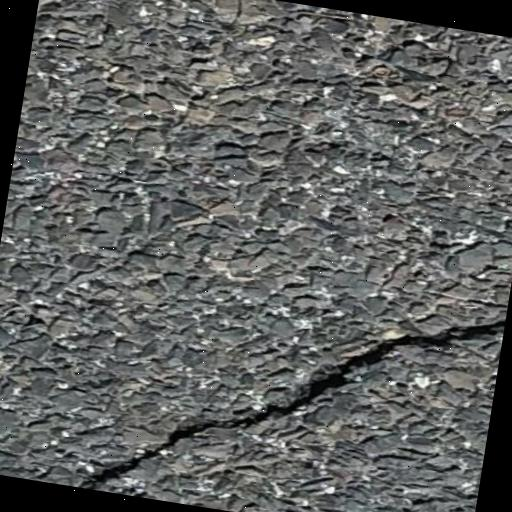spalling: (67, 312, 497, 490)
